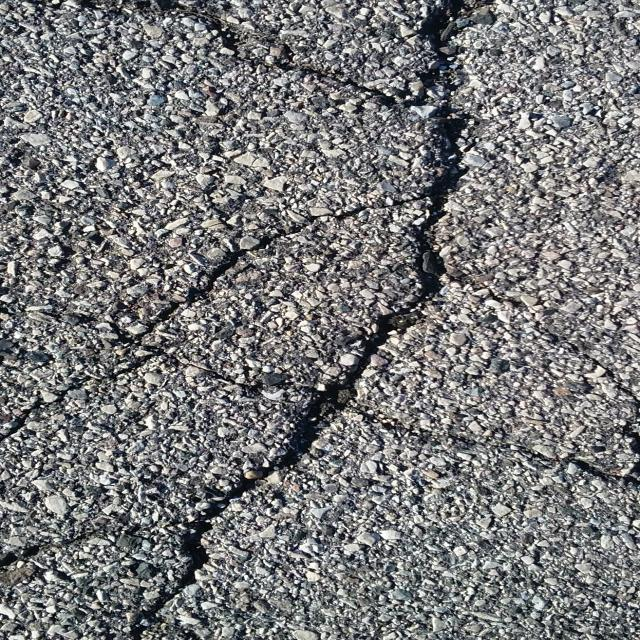Crack: (0, 0, 501, 640), (440, 318, 640, 487)
